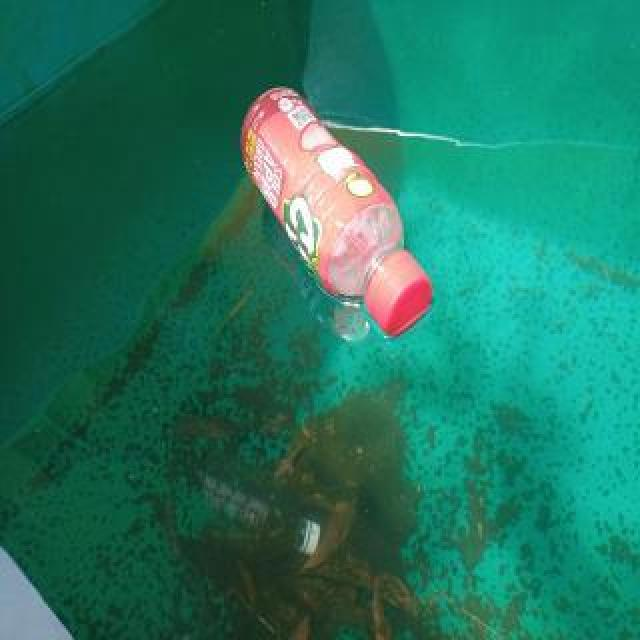bottle: (239, 82, 433, 340)
